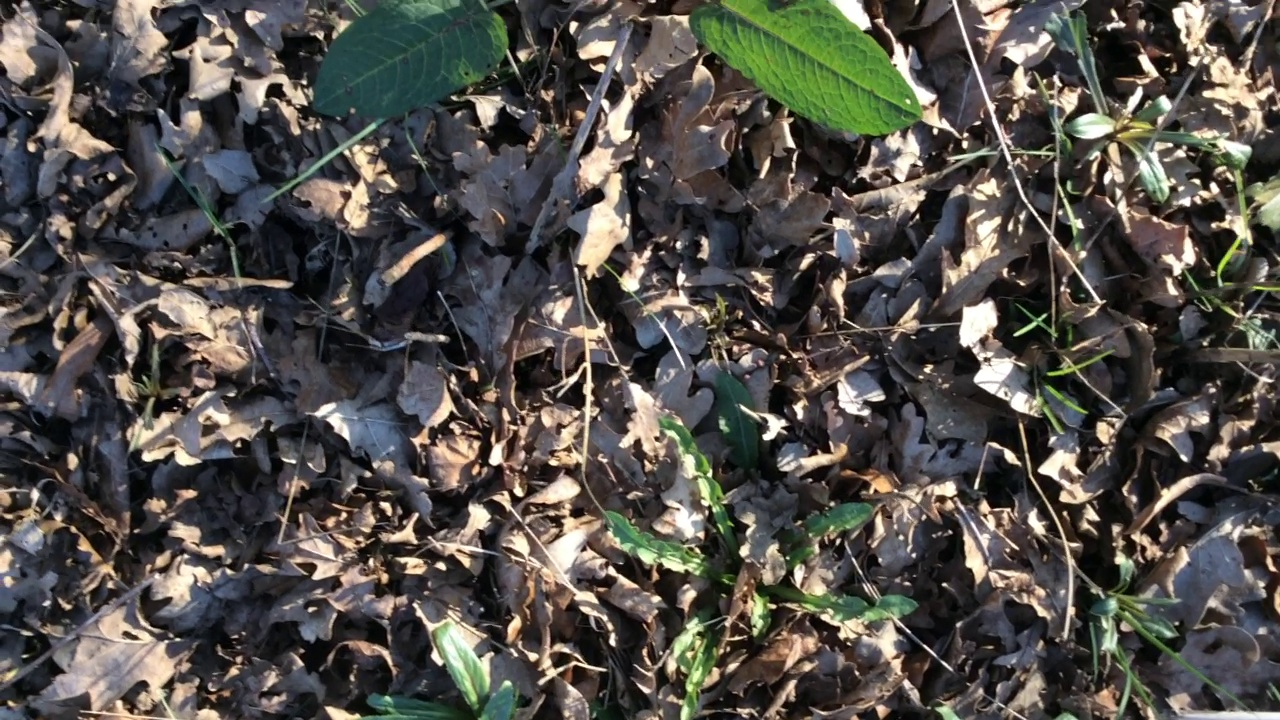rumex: (690, 1, 924, 137), (312, 1, 508, 120)
